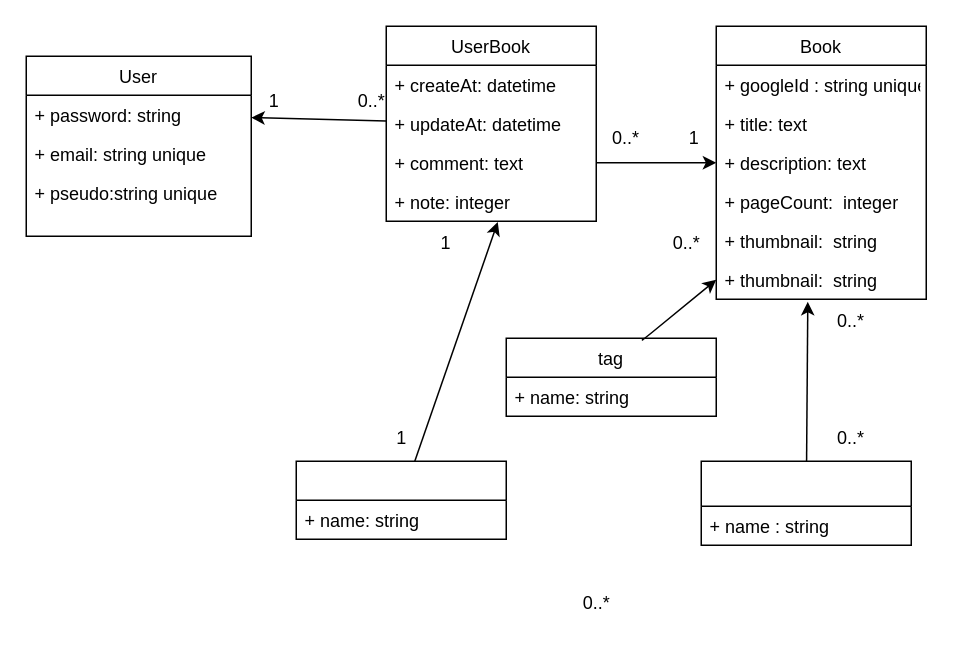
Some shapes in this 953 by 653 pixel diagram are drawn without their labels. The box of each missing label's shape, as (x1, y1, x2, y2) in pixels:
Author: (700, 460, 911, 545)
Status: (295, 460, 506, 539)
